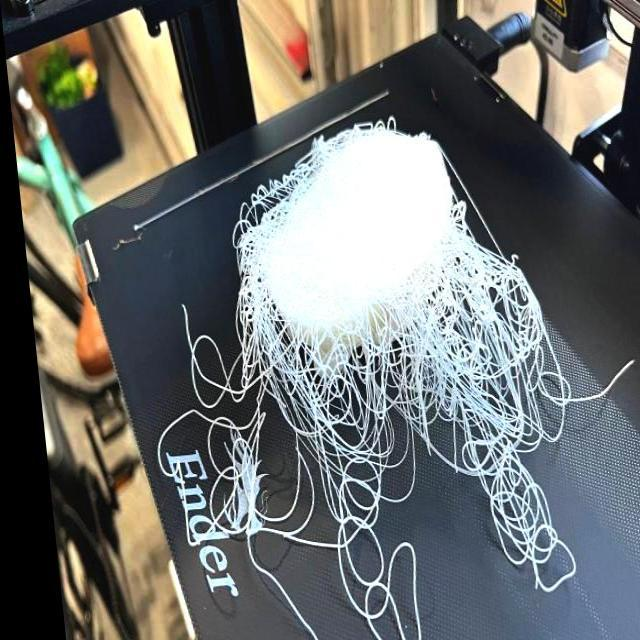spaghetti: (167, 298, 411, 602), (396, 319, 617, 590), (211, 163, 320, 296), (391, 228, 535, 325)
